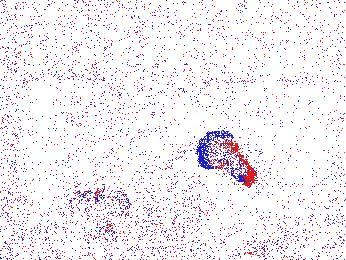flame jellyfish: (196, 129, 256, 185), (58, 188, 111, 238), (95, 187, 132, 229)
